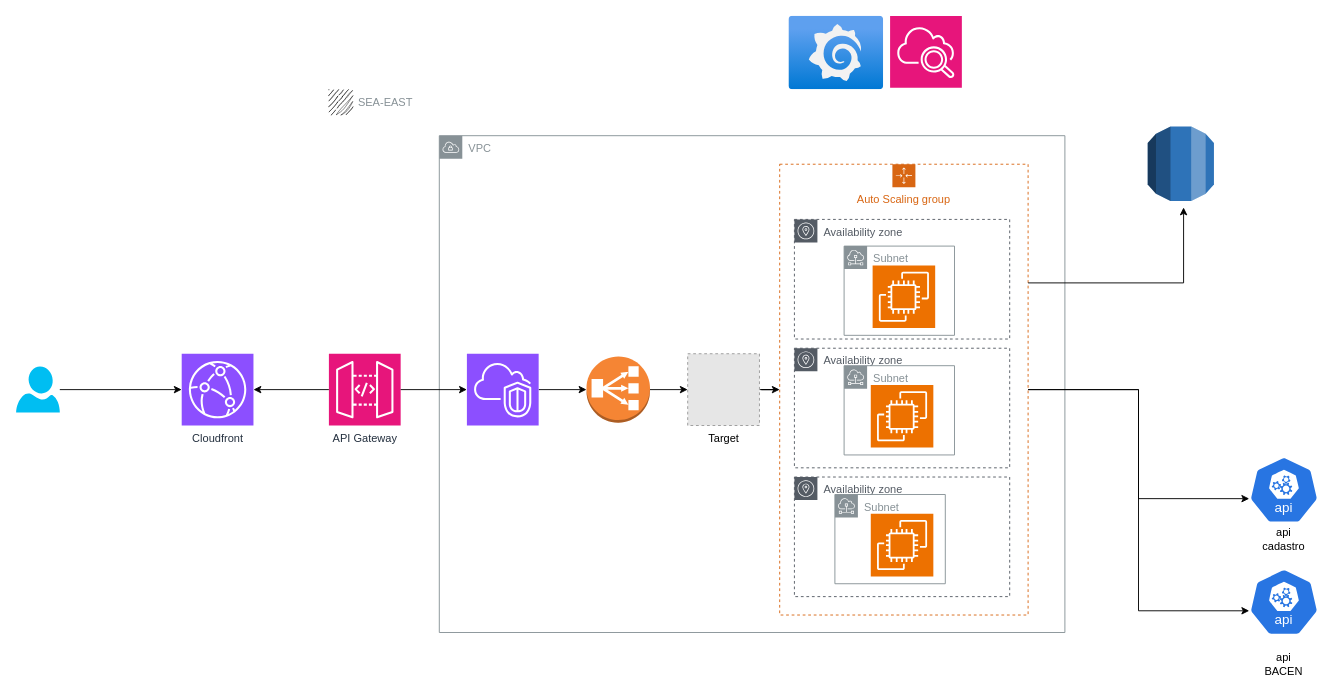
Some shapes in this 1335 by 695 pixel diagram are drawn without their labels. Grey dashed boxes stand in for pictures. Here are the shapes that lost their labels. From the top down, the centre of each, then its label:
the point at 835,52: Grafana
the point at 925,51: Cloudwatch
the point at 1180,163: RDS
the point at 502,389: VpcLink
the point at 618,389: Load Balancer(ELB)
